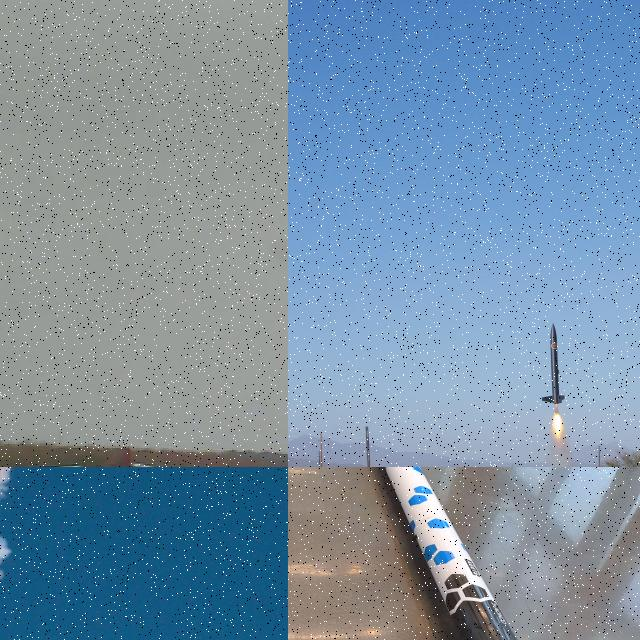Rocket: (384, 467, 518, 640), (541, 322, 566, 404)
